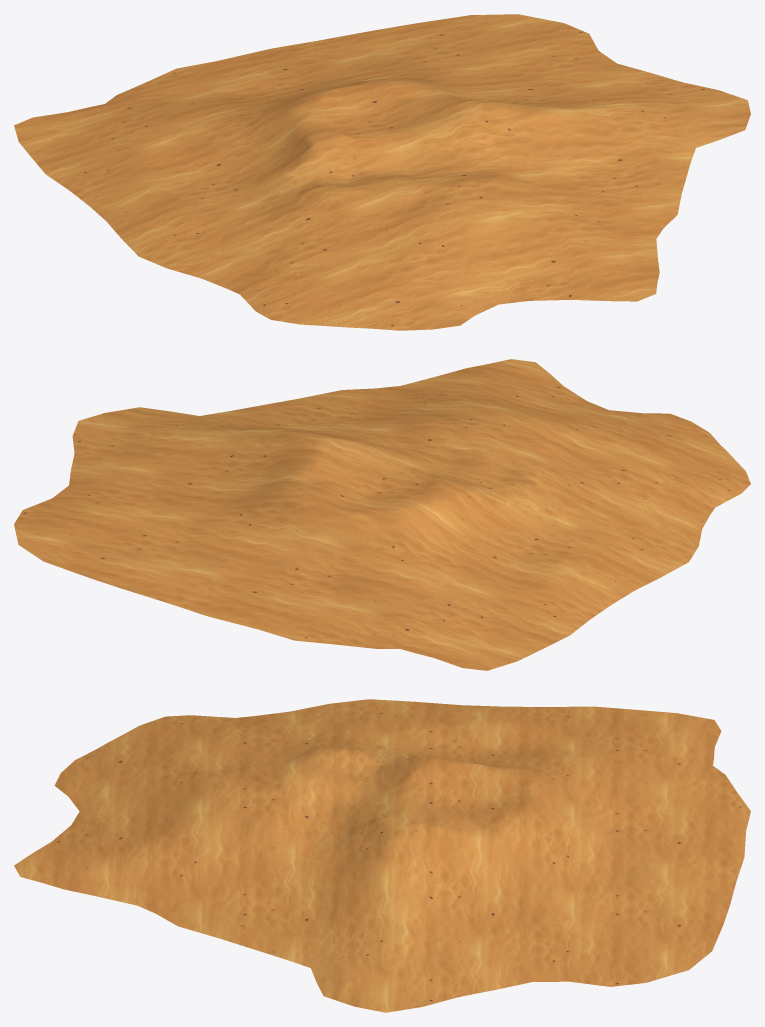
Rendered from EP1_Terrain03c.fbx.
The picture shows the model from 3 angles, top to bottom: view 1: azimuth 30°, elevation 25°; view 2: azimuth 150°, elevation 25°; view 3: azimuth 270°, elevation 25°; orthographic projection. The views are drawn at different scales.
Parts seen in each view (by area): view 1: EP1_Terrain03c; view 2: EP1_Terrain03c; view 3: EP1_Terrain03c.
Part boxes in pixels (bbox=[...]): EP1_Terrain03c: bbox=[14, 14, 750, 330]; EP1_Terrain03c: bbox=[14, 359, 750, 670]; EP1_Terrain03c: bbox=[14, 699, 750, 1012].
Size of the model in its own units: 22.77 by 1.82 by 22.61.
Materials: 1 (1 with a texture image).
